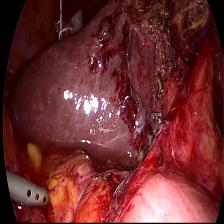Irrigator: (16, 175, 52, 213)
Specimen Bag: (52, 7, 88, 46)
